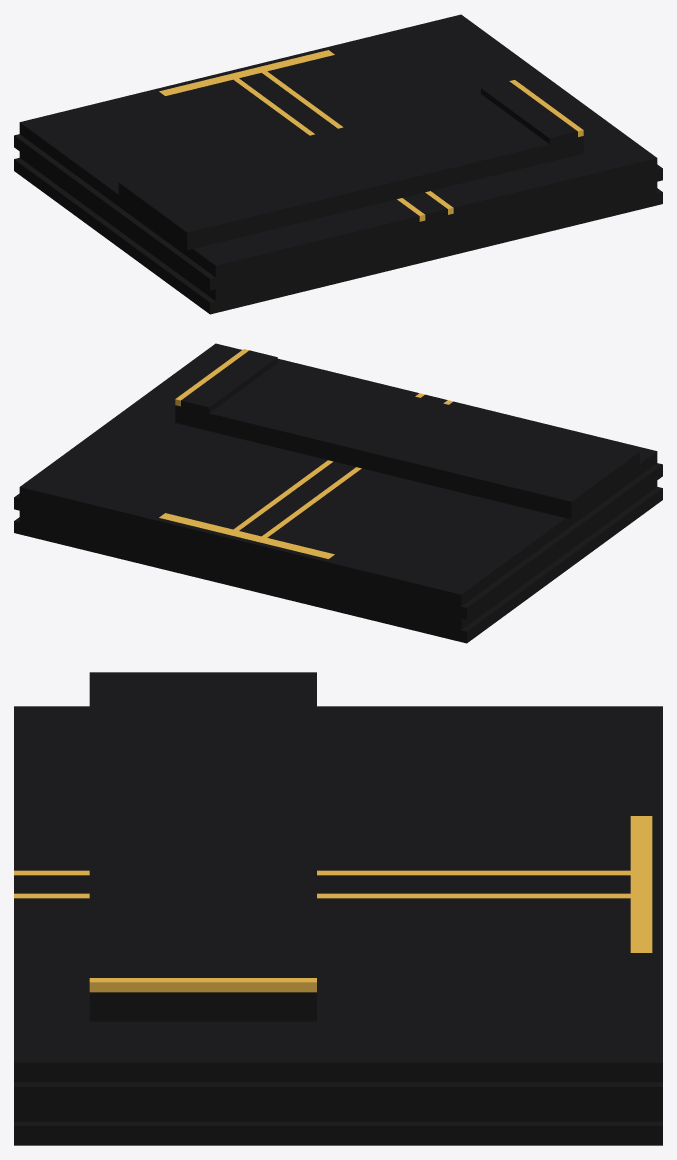
Rendered from abaya.glb.
The picture shows the model from 3 angles, top to bottom: view 1: azimuth 30°, elevation 25°; view 2: azimuth 150°, elevation 25°; view 3: azimuth 270°, elevation 25°; orthographic projection. The views are drawn at different scales.
Visible parts, largest first — view 1: abaya:compound; view 2: abaya:compound; view 3: abaya:compound.
Boxes of the visible parts, x1=… form: abaya:compound: x1=14, y1=14, x2=662, y2=314; abaya:compound: x1=14, y1=343, x2=662, y2=643; abaya:compound: x1=14, y1=672, x2=662, y2=1145.
Bounding box in the file's own units: 0.32 × 0.048 × 0.24.
